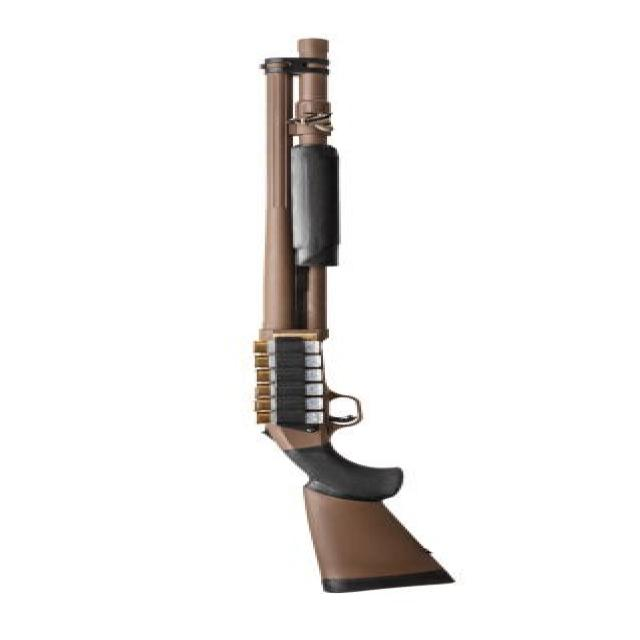rifle: (251, 27, 470, 605)
